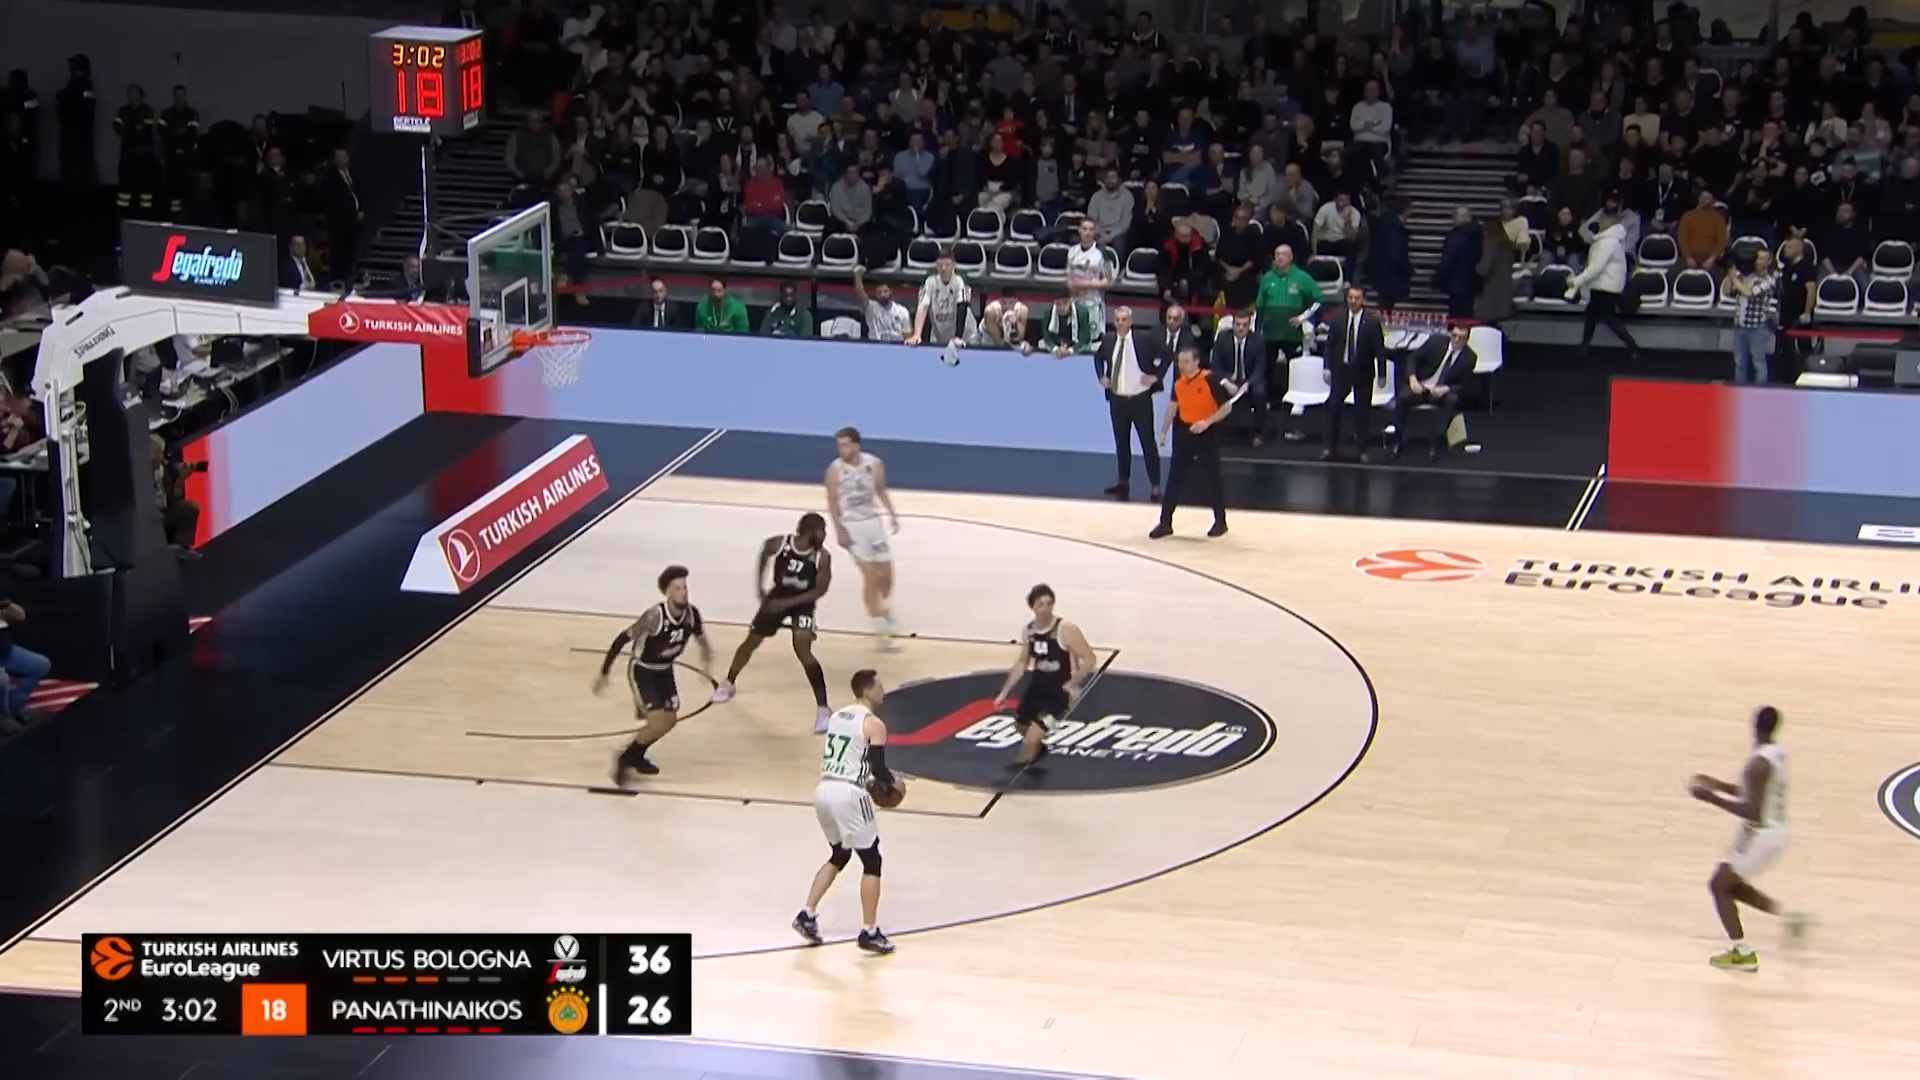ball: (868, 771, 909, 814)
net: (535, 327, 593, 392)
